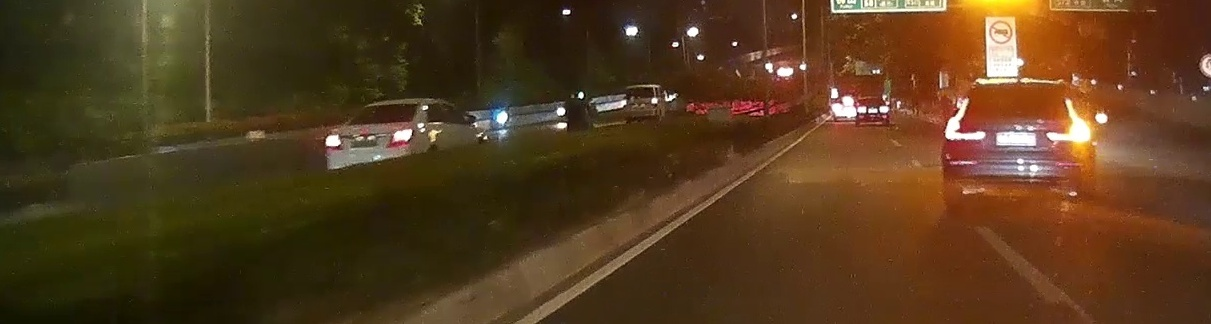L_light: (943, 97, 986, 141), (325, 134, 342, 150)
R_light: (1045, 99, 1090, 142), (386, 129, 413, 147)
T_light: (1009, 84, 1031, 91), (381, 104, 396, 108)
night-no: (324, 99, 421, 183)
night-right: (940, 77, 1098, 213)
